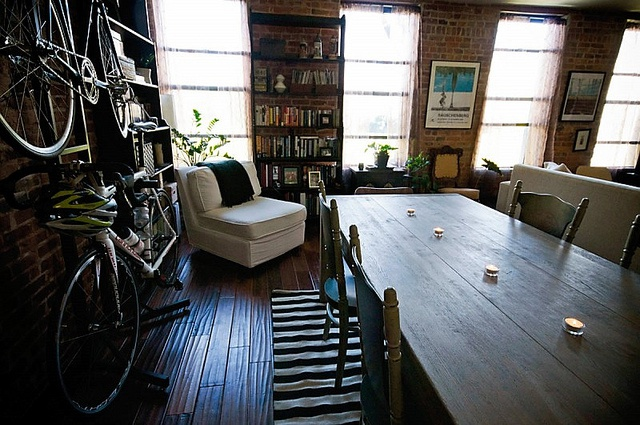non-vehicle: (4, 161, 182, 415), (1, 0, 135, 160)
